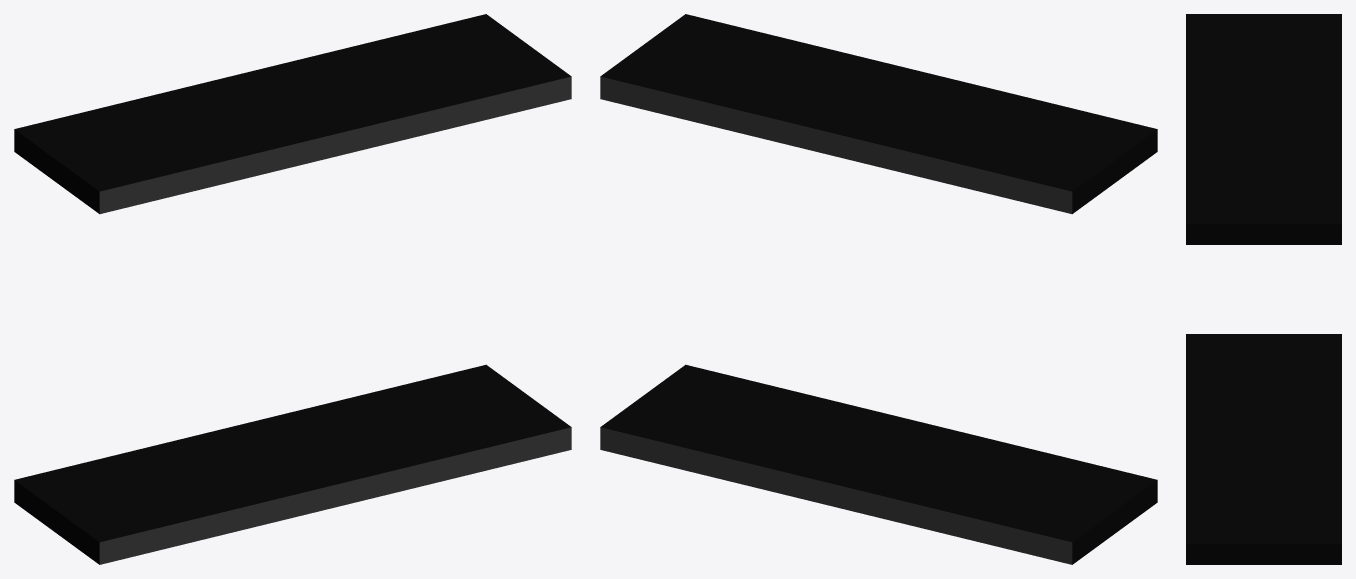
Rendered from b6c6d50a-9b50-45fa-931d-dff2ee5203db.glb.
3 renders of one model, left to right at view 1: azimuth 30°, elevation 25°; view 2: azimuth 150°, elevation 25°; view 3: azimuth 270°, elevation 25°, orthographic. The views are drawn at different scales.
Parts seen in each view (by area): view 1: =_AlphaProta_Black; view 2: =_AlphaProta_Black; view 3: =_AlphaProta_Black.
Boxes of the visible parts, x1,y1,x2,y2 form: =_AlphaProta_Black: (14, 14, 571, 564); =_AlphaProta_Black: (600, 14, 1157, 564); =_AlphaProta_Black: (1186, 14, 1341, 564).
Size of what is drawn, in the model's own units: 0.1436 by 0.1086 by 0.045.
2 materials, 2 textured.
